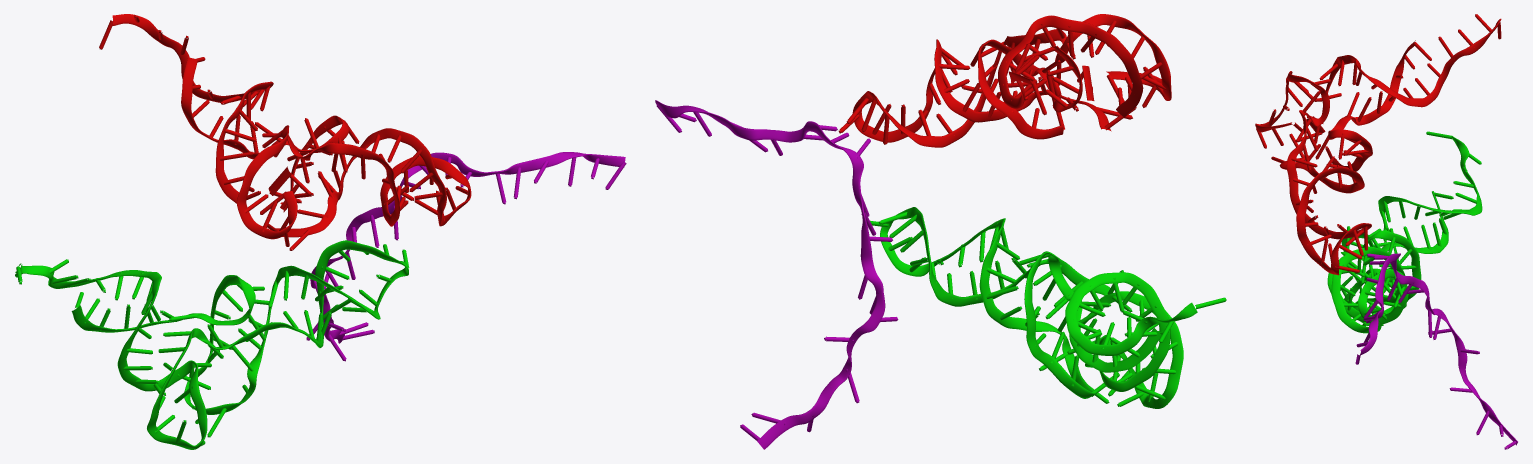
Rendered from mrna-trnas.gltf.
The picture shows the model from 3 angles, left to right: view 1: azimuth 30°, elevation 25°; view 2: azimuth 150°, elevation 25°; view 3: azimuth 270°, elevation 25°; orthographic projection. The views are drawn at different scales.
Visible parts, largest first — view 1: vmd_mol0_rep2, vmd_mol0_rep4, vmd_mol0_rep5; view 2: vmd_mol0_rep4, vmd_mol0_rep2, vmd_mol0_rep5; view 3: vmd_mol0_rep2, vmd_mol0_rep4, vmd_mol0_rep5.
Boxes of the visible parts, <box> form: vmd_mol0_rep2: <box>99,14,471,250</box>; vmd_mol0_rep4: <box>15,240,409,449</box>; vmd_mol0_rep5: <box>306,152,626,361</box>; vmd_mol0_rep4: <box>870,207,1226,408</box>; vmd_mol0_rep2: <box>838,14,1171,147</box>; vmd_mol0_rep5: <box>655,100,898,449</box>; vmd_mol0_rep2: <box>1255,14,1501,275</box>; vmd_mol0_rep4: <box>1327,131,1482,333</box>; vmd_mol0_rep5: <box>1355,253,1517,449</box>.
Bounding box in the file's own units: 1.25 × 0.8468 × 0.5982.
